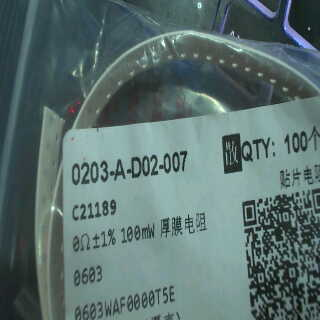0R: (69, 222, 157, 291)
